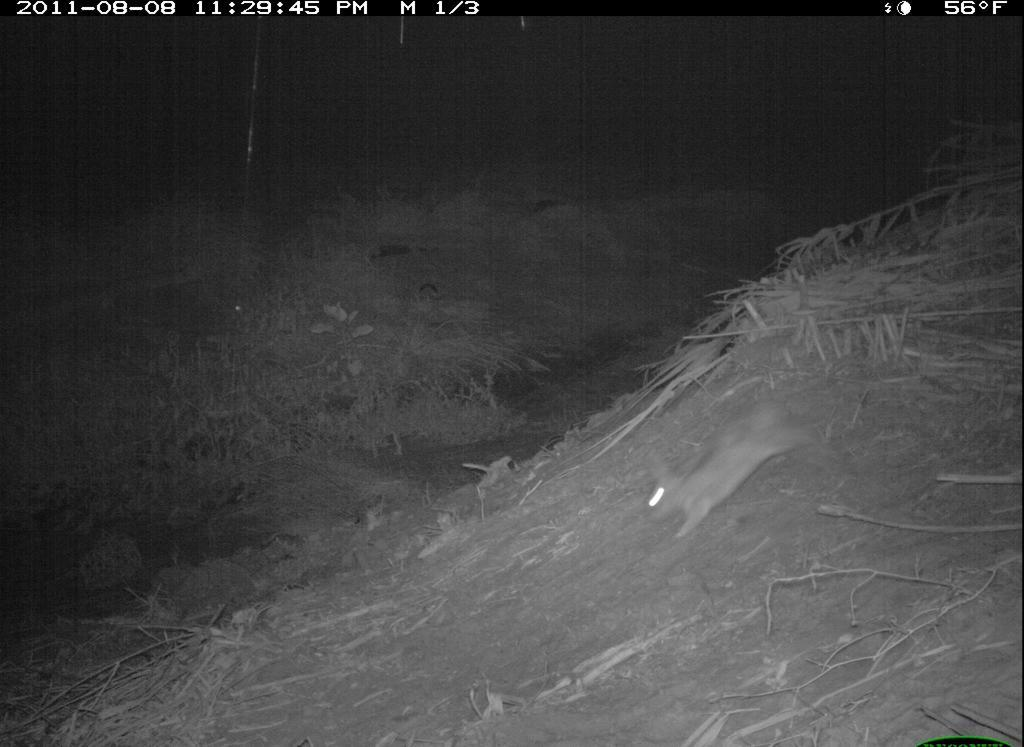rabbit: (632, 386, 831, 547)
